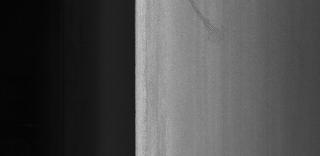water spot: (186, 0, 242, 52)
